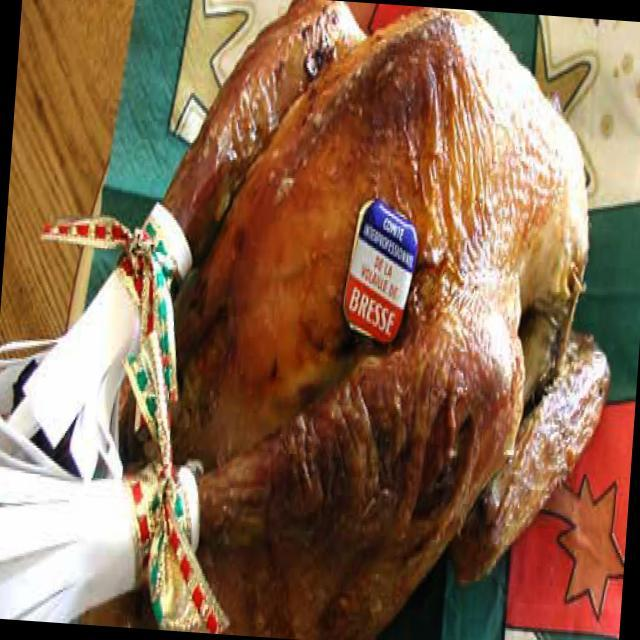Chicken: (124, 0, 597, 624)
